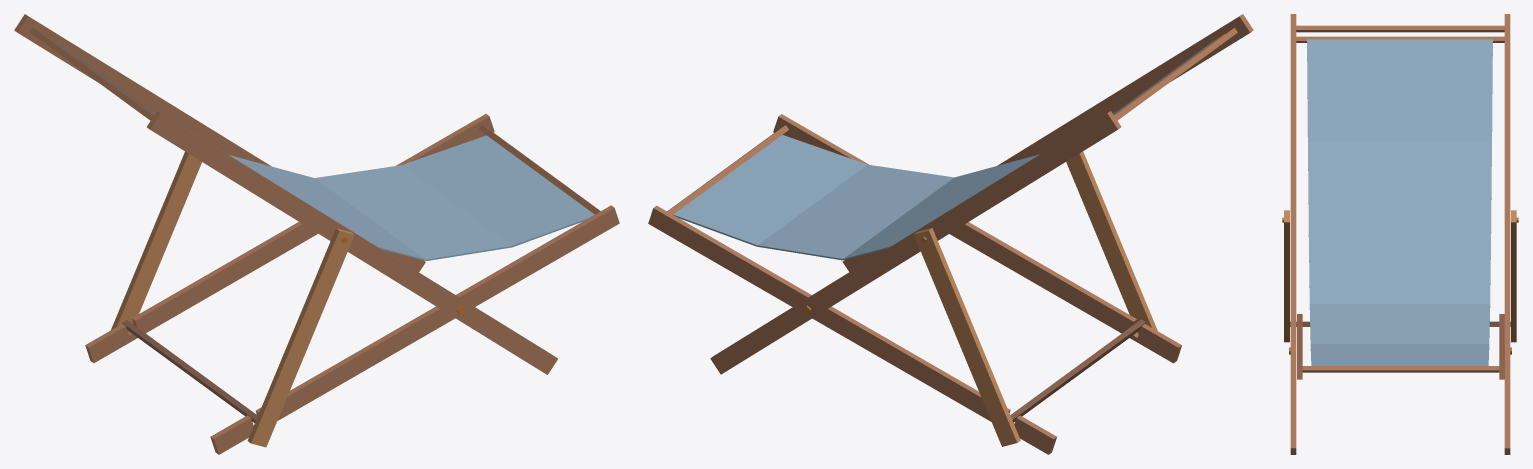
The model's file is Chair_05.glb.
3 renders of one model, left to right at view 1: azimuth 30°, elevation 25°; view 2: azimuth 150°, elevation 25°; view 3: azimuth 270°, elevation 25°, orthographic. The views are drawn at different scales.
Parts seen in each view (by area): view 1: Chair_05; view 2: Chair_05; view 3: Chair_05.
Boxes of the visible parts, x1,y1,x2,y2 form: Chair_05: [14, 14, 619, 454]; Chair_05: [648, 14, 1253, 454]; Chair_05: [1282, 14, 1518, 454].
Size of what is drawn, in the model's own units: 2.13 by 1.55 by 1.14.
Materials: 1 (1 with a texture image).
